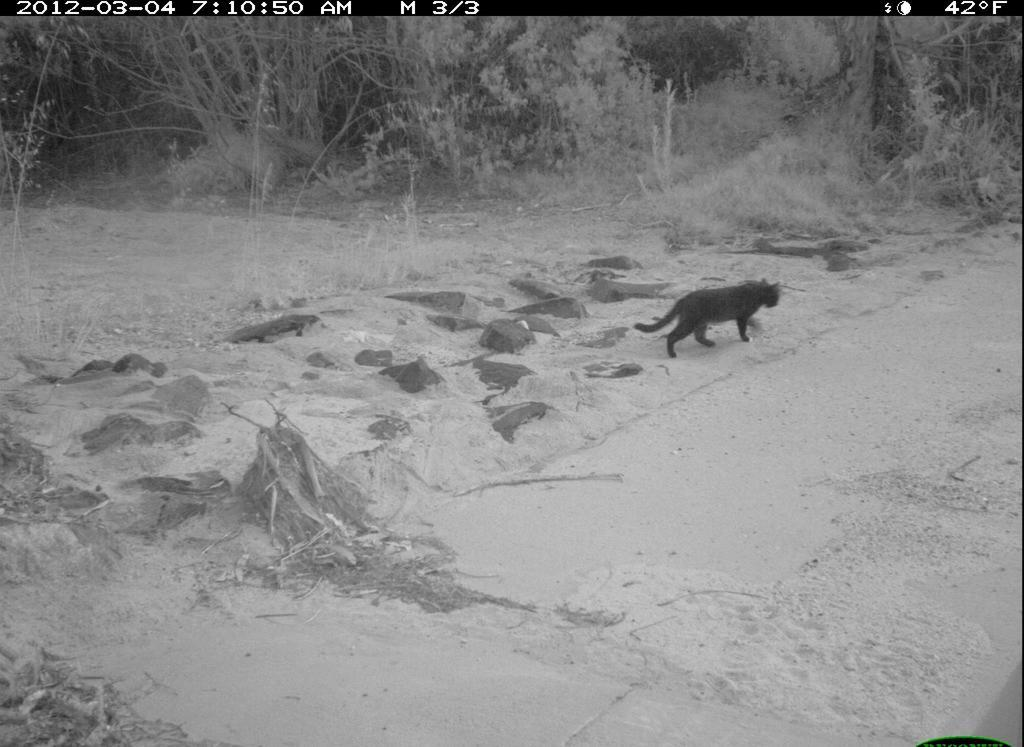cat: (630, 277, 785, 367)
